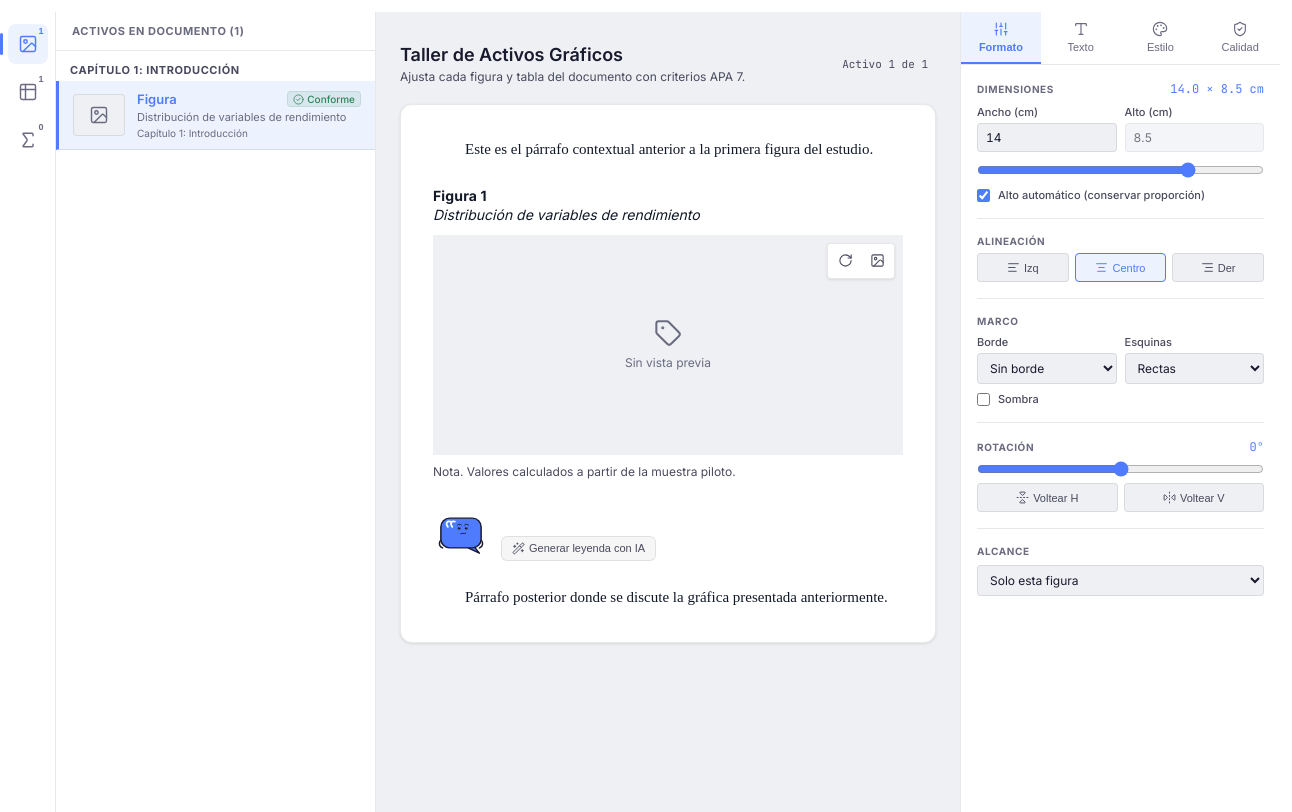
Test: TallerFigurasView › permite conmutar pestañas del inspector y modificar dimensiones
This screenshot has width=1292, height=812.
Click the tab "Texto".
click(1081, 38)  # box [1041,12,1121,64]
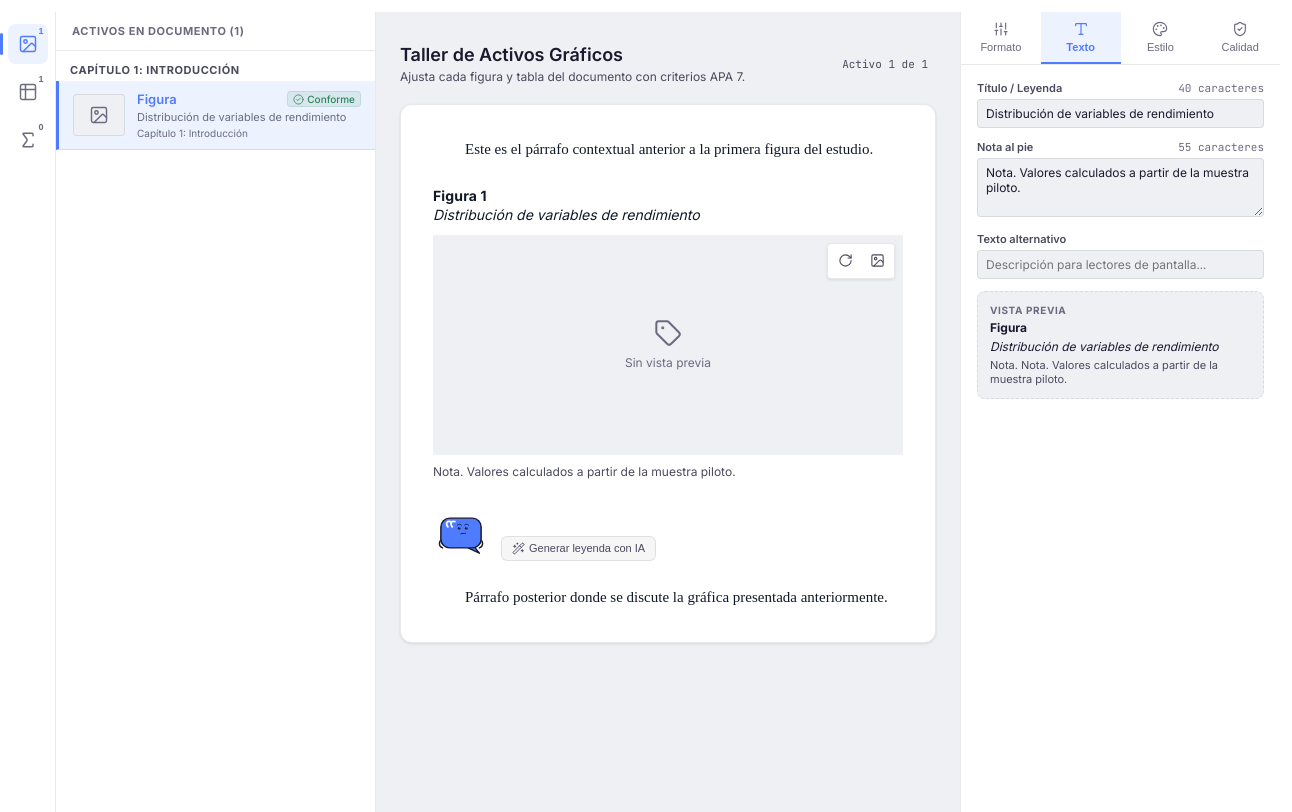
Now the field labelled "Título / Leyenda" is shown, box [977,99,1264,128]
Click the tab "Estilo".
click(1160, 38)  # box [1120,12,1200,64]
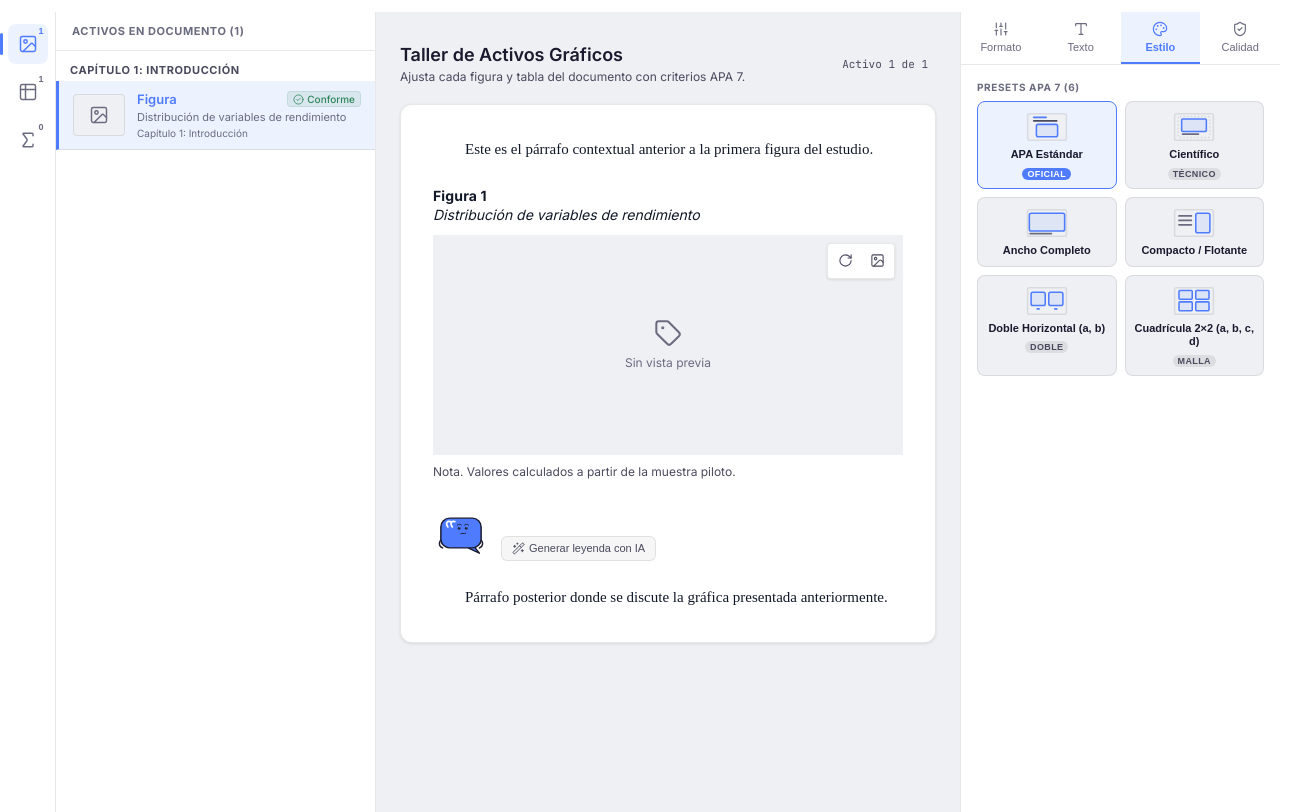
Now the text "APA Estándar" is shown, box [1011,148,1083,162]
